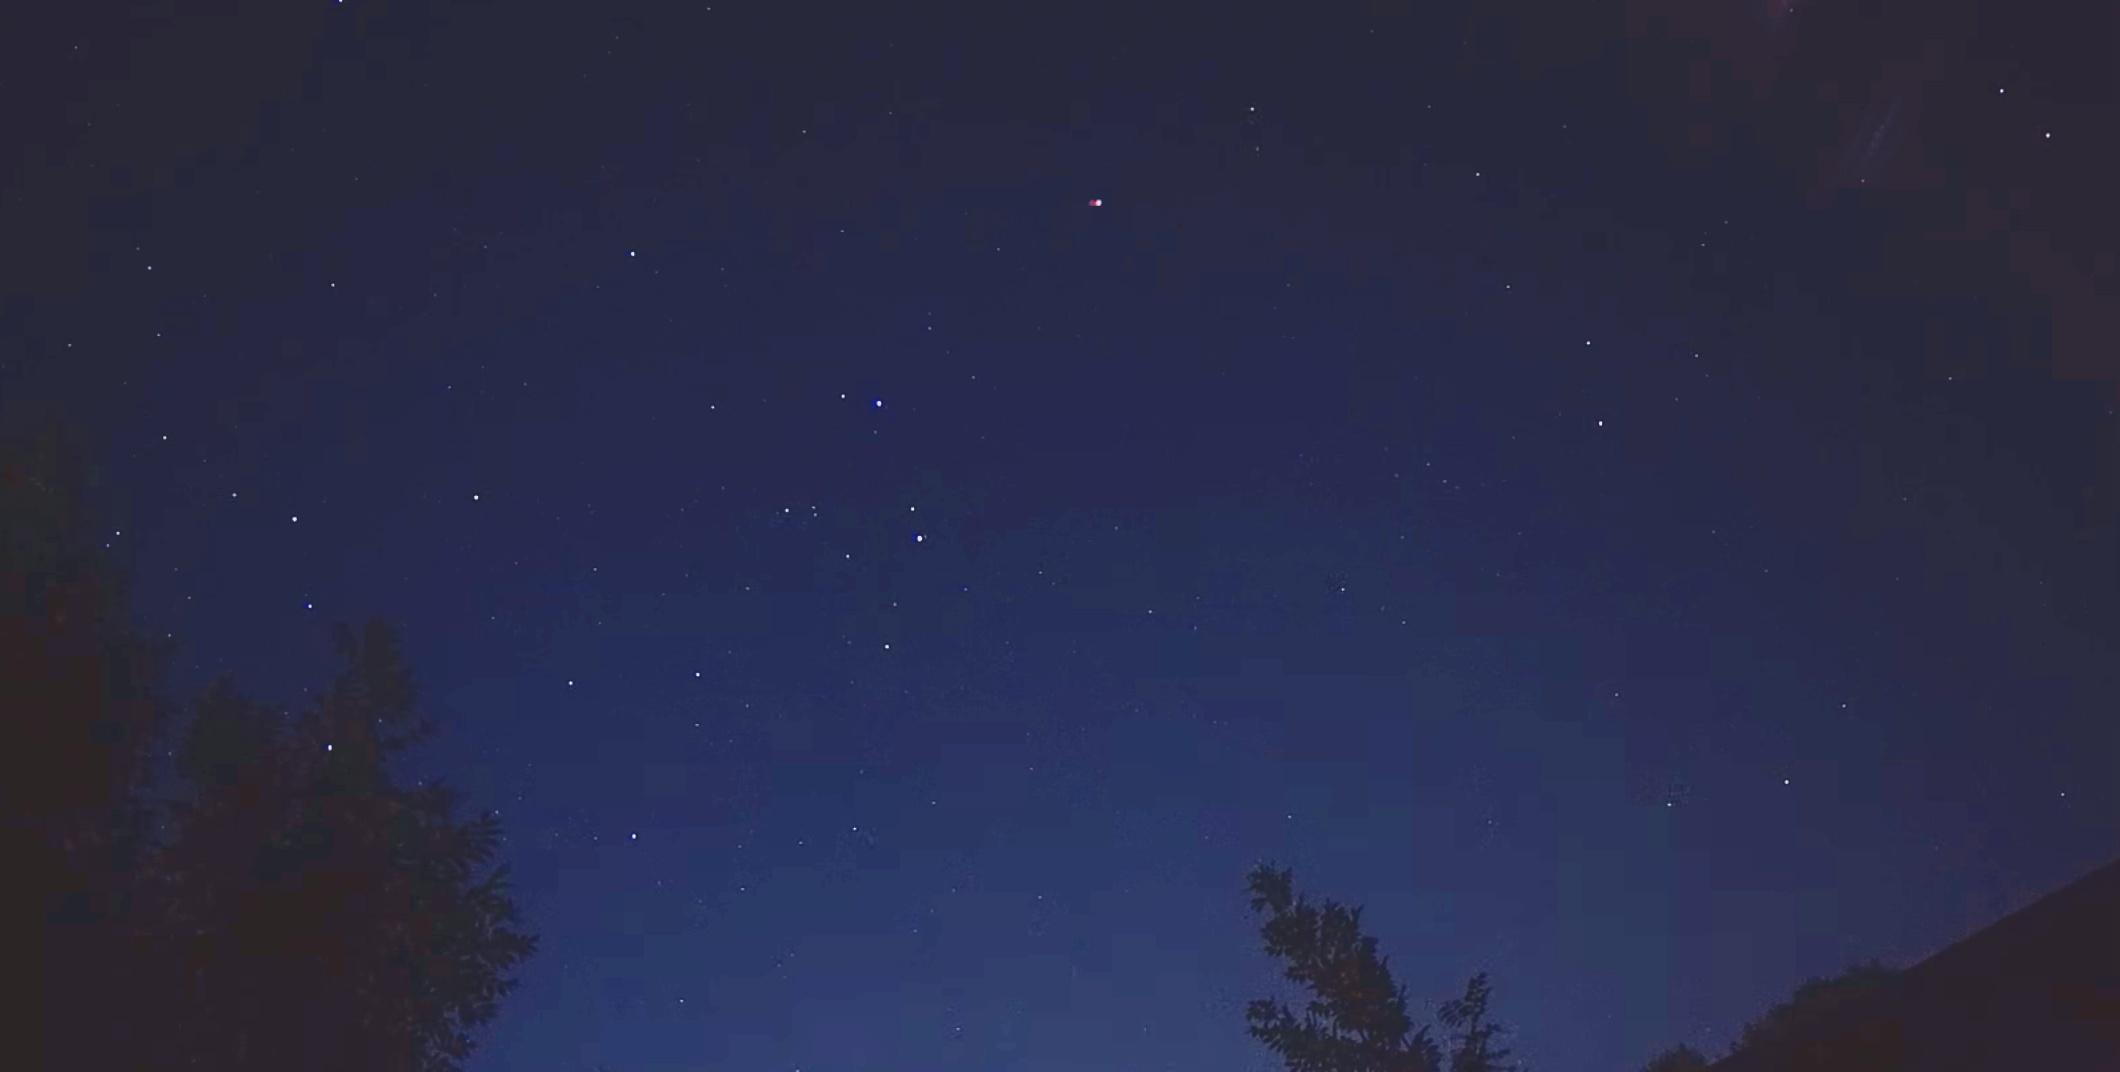Plane: (1061, 187, 1130, 216)
